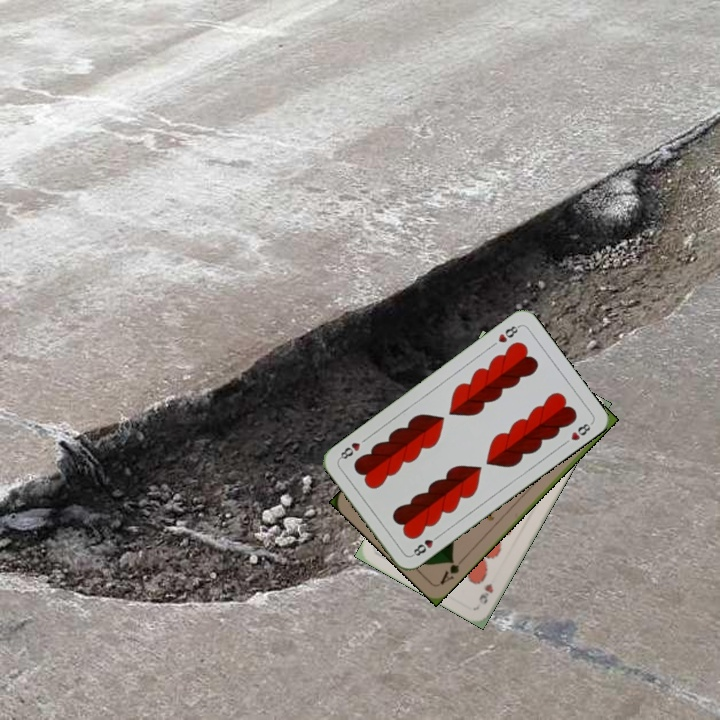GA: (436, 554, 467, 588)
H8: (407, 530, 443, 559), (494, 321, 523, 345)
H9: (475, 579, 496, 606)
